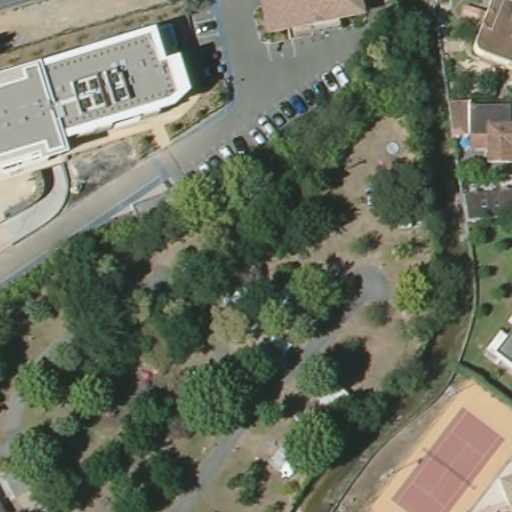pool: (456, 133, 473, 155)
